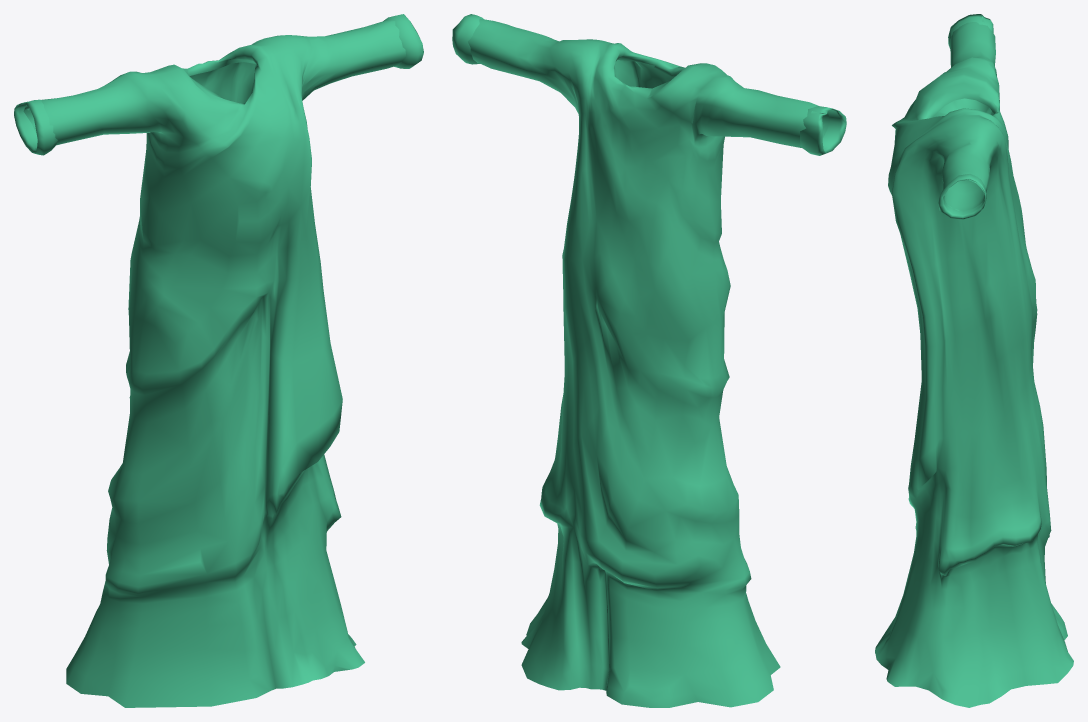
3 renders of one model, left to right at view 1: azimuth 30°, elevation 25°; view 2: azimuth 150°, elevation 25°; view 3: azimuth 270°, elevation 25°, orthographic. The views are drawn at different scales.
Parts seen in each view (by area): view 1: s6; view 2: s6; view 3: s6.
Part boxes in pixels (left/top/right/bottom): s6: left=14, top=14, right=423, bottom=707; s6: left=452, top=14, right=846, bottom=707; s6: left=875, top=14, right=1073, bottom=707.
Bounding box in the file's own units: 93.74 × 145 × 46.46.
